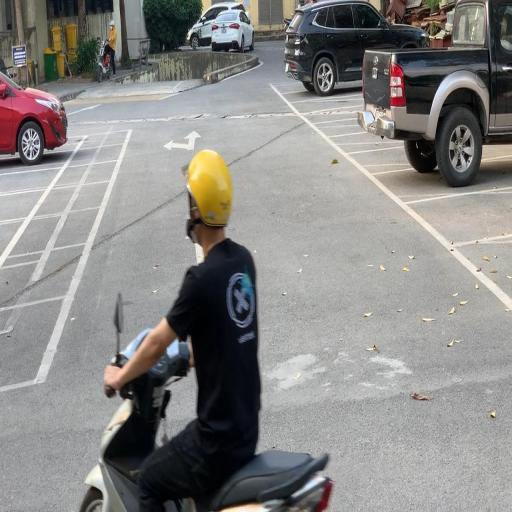bike: (78, 148, 333, 512)
with helmet: (182, 149, 234, 229)
